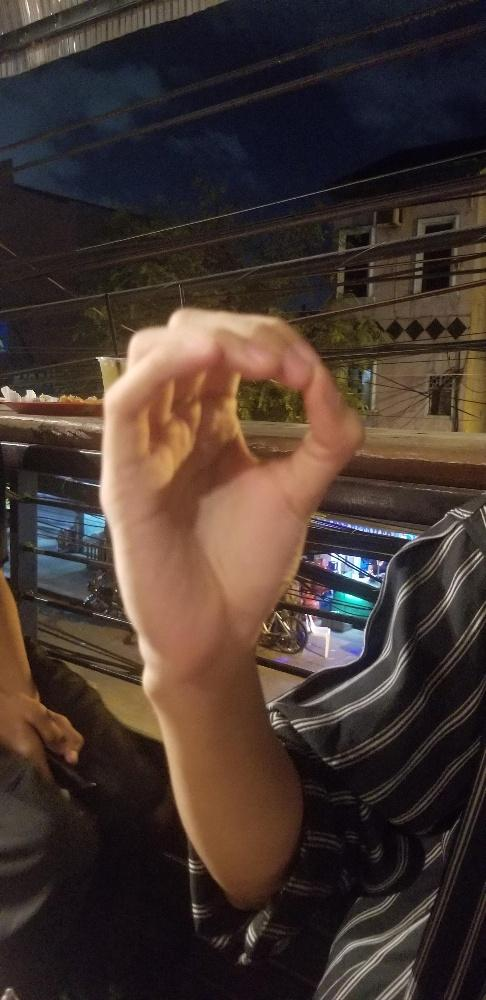o: (96, 304, 364, 670)
